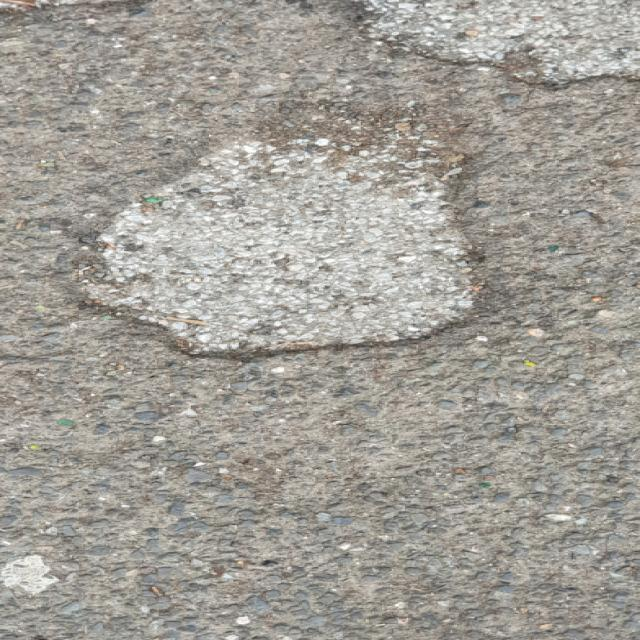pothole: (54, 110, 511, 363), (346, 0, 640, 94)
